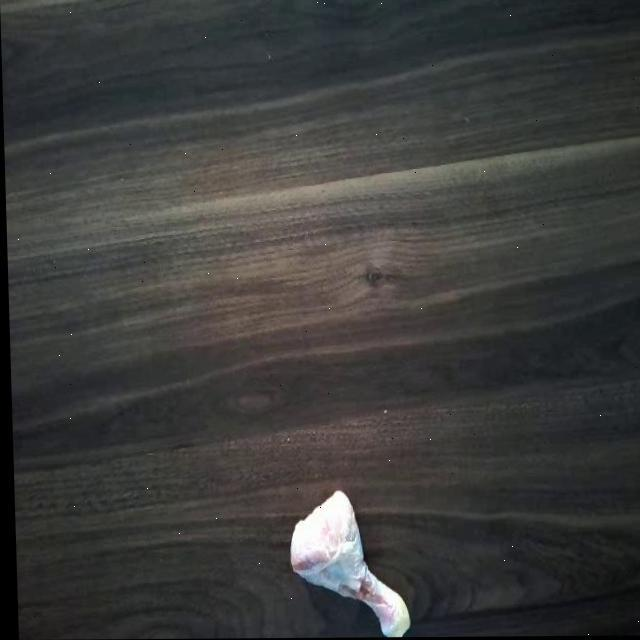leg: (282, 488, 405, 633)
